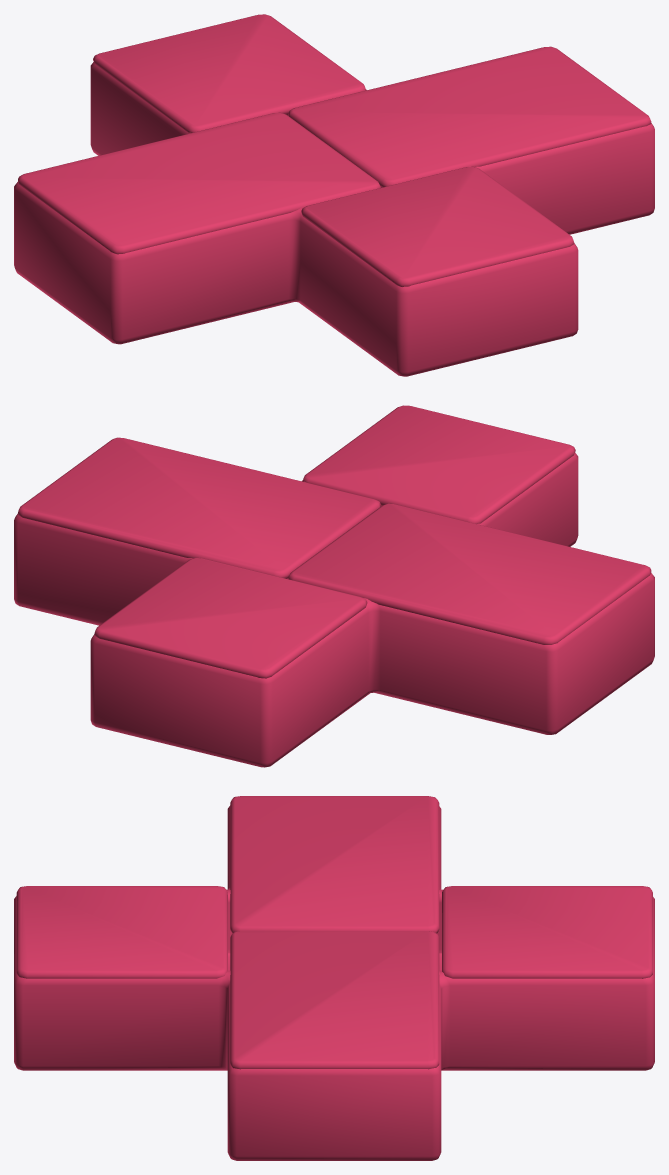
Rendered from Block-X-Pink.fbx.
3 renders of one model, top to bottom at view 1: azimuth 30°, elevation 25°; view 2: azimuth 150°, elevation 25°; view 3: azimuth 270°, elevation 25°, orthographic. The views are drawn at different scales.
Visible parts, largest first — view 1: Cube.007, Block-X-Pink; view 2: Cube.007, Block-X-Pink; view 3: Cube.007, Block-X-Pink.
Part boxes in pixels (x1,y1,x2,y2): Cube.007: (18, 14, 651, 286); Block-X-Pink: (14, 62, 654, 376); Cube.007: (18, 405, 651, 678); Block-X-Pink: (14, 452, 654, 767); Cube.007: (16, 796, 652, 1069); Block-X-Pink: (14, 805, 654, 1160).
Size of the model in its own units: 300 by 51.89 by 300.
